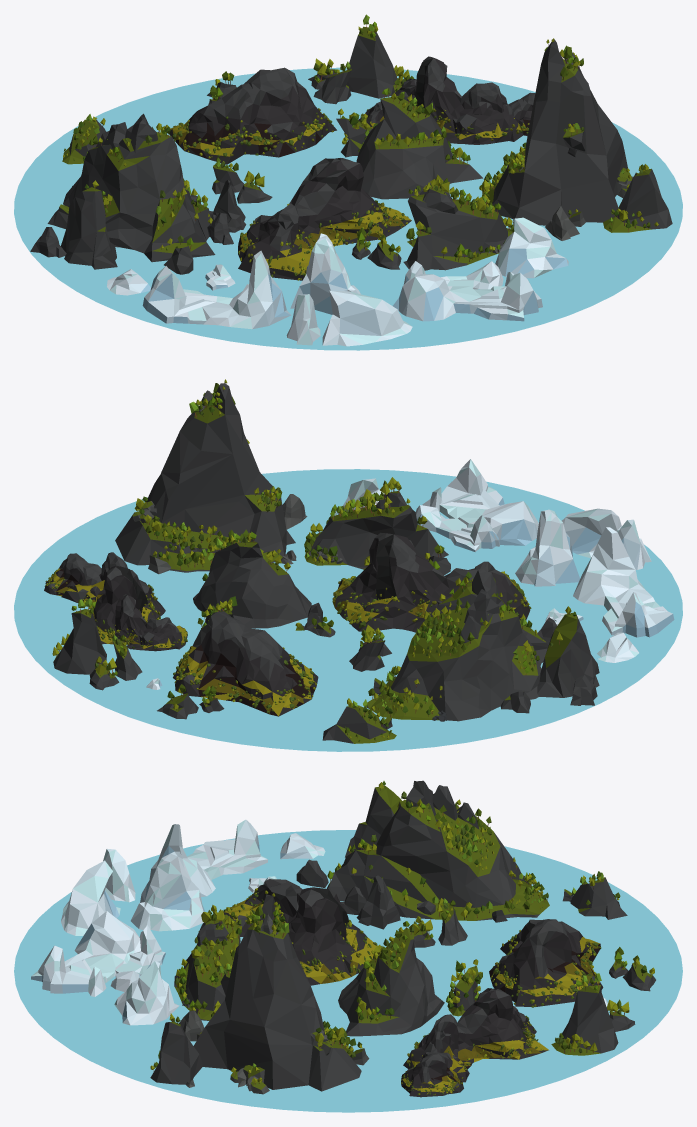
File: Islands.fbx
The picture shows the model from 3 angles, top to bottom: view 1: azimuth 30°, elevation 25°; view 2: azimuth 150°, elevation 25°; view 3: azimuth 270°, elevation 25°; orthographic projection.
Parts seen in each view (by area): view 1: Circle.001, Island 1, Island 6, New Rock 1, New Rock 3, Island 5, New Rock 2, Island 3, Iceberg 1, Iceberg 2, Iceberg 4, Island 4 (+12 smaller); view 2: Circle.001, Island 1, Island 6, New Rock 3, New Rock 1, New Rock 2, Island 5, Iceberg 1, Iceberg 2, Island 3, Trees 1, Island 4 (+11 smaller); view 3: Circle.001, Island 1, Island 6, New Rock 2, New Rock 1, New Rock 3, Island 5, Iceberg 1, Iceberg 8, Iceberg 2, Trees 1, Island 3 (+12 smaller).
Boxes of the visible parts, x1,y1,x2,y2 form: Circle.001: (14, 67, 682, 350); Island 1: (30, 113, 246, 274); Island 6: (482, 39, 672, 240); New Rock 1: (238, 158, 411, 280); New Rock 3: (169, 67, 336, 164); Island 5: (336, 96, 482, 199); New Rock 2: (358, 56, 535, 144); Island 3: (352, 185, 512, 270); Iceberg 1: (393, 261, 542, 321); Iceberg 2: (142, 250, 291, 329); Iceberg 4: (322, 290, 412, 346); Island 4: (308, 26, 401, 104); Circle.001: (14, 469, 682, 751); Island 1: (366, 569, 599, 721); Island 6: (115, 383, 307, 574); New Rock 3: (173, 611, 318, 716); New Rock 1: (332, 532, 531, 632); New Rock 2: (44, 552, 187, 651); Island 5: (193, 541, 335, 637); Iceberg 1: (415, 459, 538, 551); Iceberg 2: (573, 527, 674, 637); Island 3: (304, 491, 450, 575); Trees 1: (368, 571, 576, 716); Island 4: (53, 609, 142, 690); Circle.001: (14, 830, 682, 1112); Island 1: (296, 780, 549, 929); Island 6: (150, 894, 369, 1094); New Rock 2: (401, 988, 548, 1097); New Rock 1: (223, 878, 382, 985); New Rock 3: (489, 919, 603, 1007); Island 5: (338, 928, 478, 1036); Iceberg 1: (31, 911, 165, 996); Iceberg 8: (130, 851, 205, 931); Iceberg 2: (149, 819, 267, 896); Trees 1: (327, 781, 548, 919); Island 3: (174, 914, 240, 1020).
Size of the model in its own units: 8424 by 2266 by 8424.
